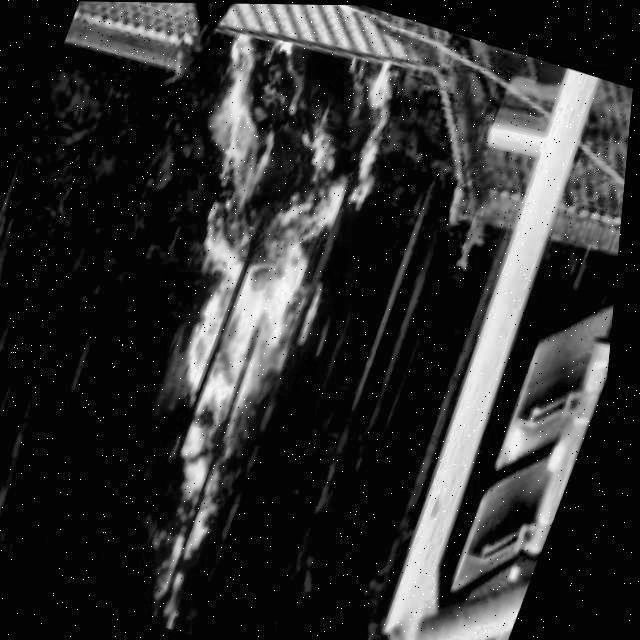Fire: (44, 21, 416, 637)
